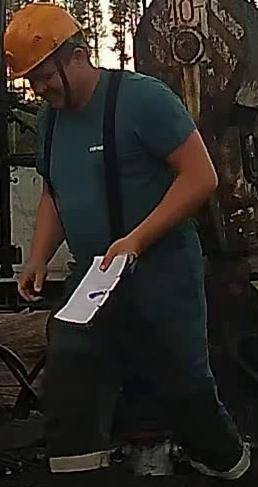helmet: (3, 2, 86, 79)
